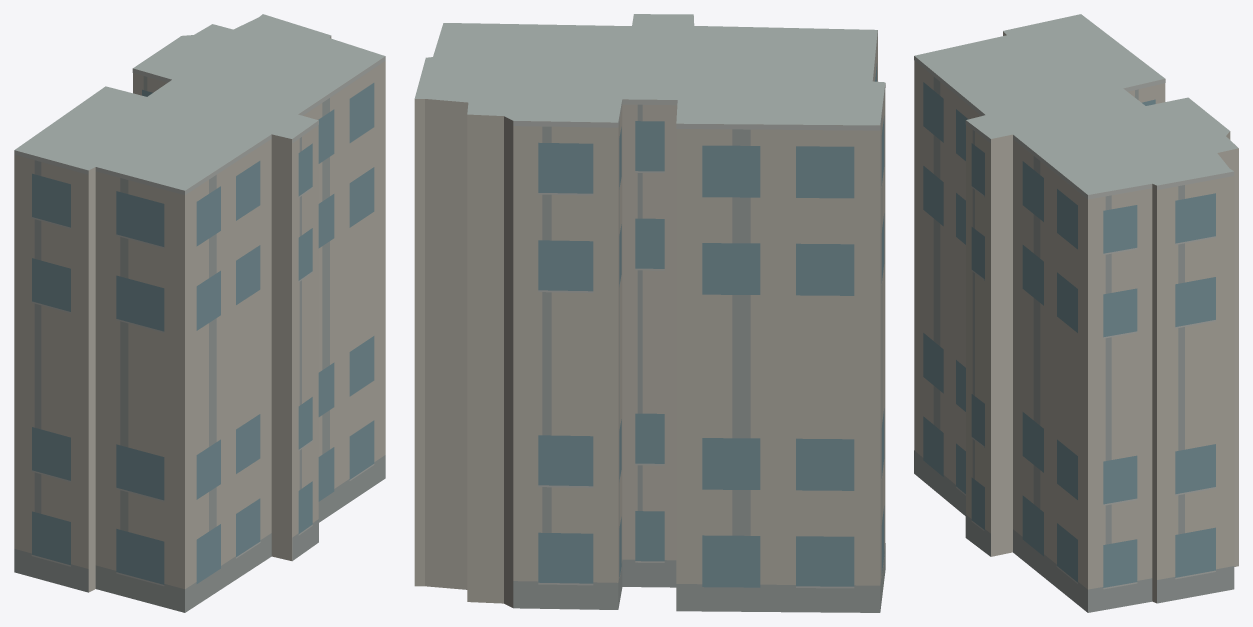
File: survey-upis-32461493.glb
3 views of the same model, side by side, from view 1: azimuth 30°, elevation 25°; view 2: azimuth 150°, elevation 25°; view 3: azimuth 270°, elevation 25° (orthographic). The views are drawn at different scales.
Parts seen in each view (by area): view 1: survey-upis-32461493.tmp; view 2: survey-upis-32461493.tmp; view 3: survey-upis-32461493.tmp.
Boxes of the visible parts, x1=… form: survey-upis-32461493.tmp: x1=14, y1=14, x2=385, y2=612; survey-upis-32461493.tmp: x1=414, y1=14, x2=885, y2=612; survey-upis-32461493.tmp: x1=914, y1=14, x2=1238, y2=612.
Size of the model in its own units: 21.28 by 22.9 by 16.13.
